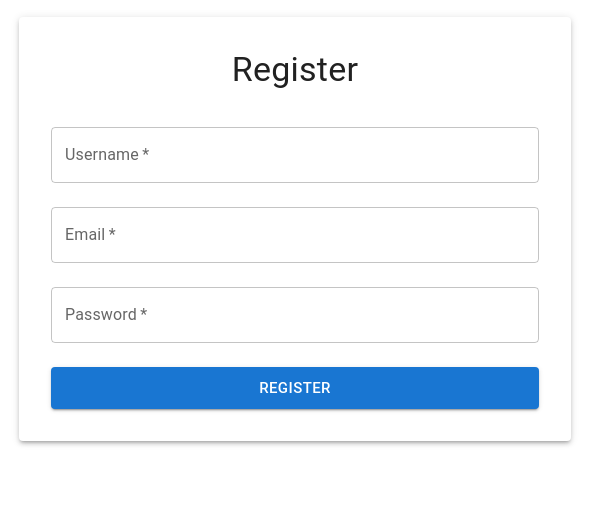
Test: Register Component › displays an error message on registration failure
# Simulate user input and form submission
Type "testuser" into the field labelled "Username *" at [295, 155], box [51,127,539,183]
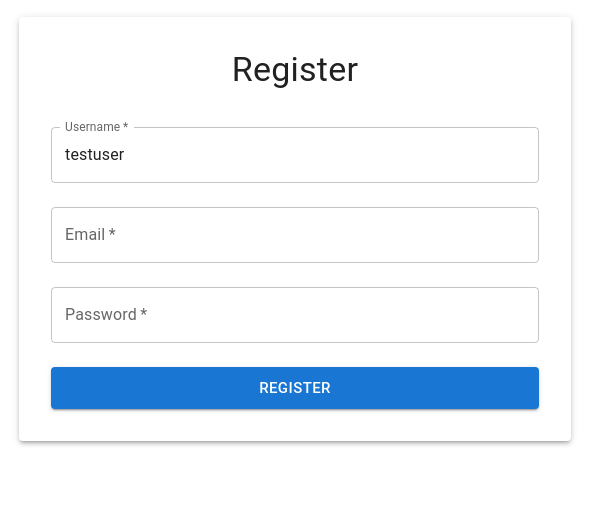
Type "test@example.com" into the field labelled "Email *" at [295, 235], box [51,207,539,263]
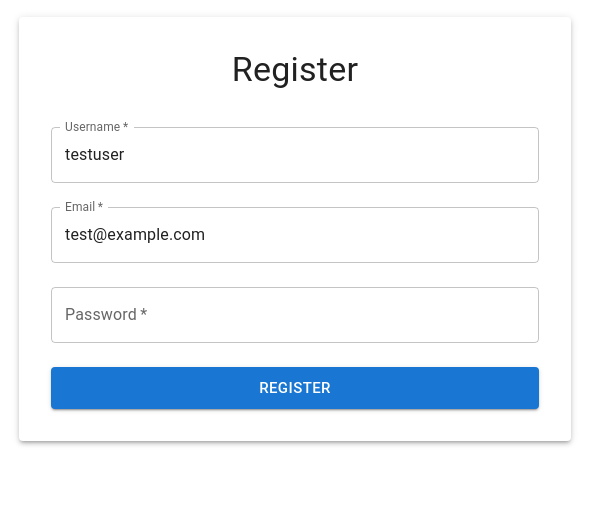
Type "testpassword" into the password field labelled "Password *" at [295, 315], box [51,287,539,343]
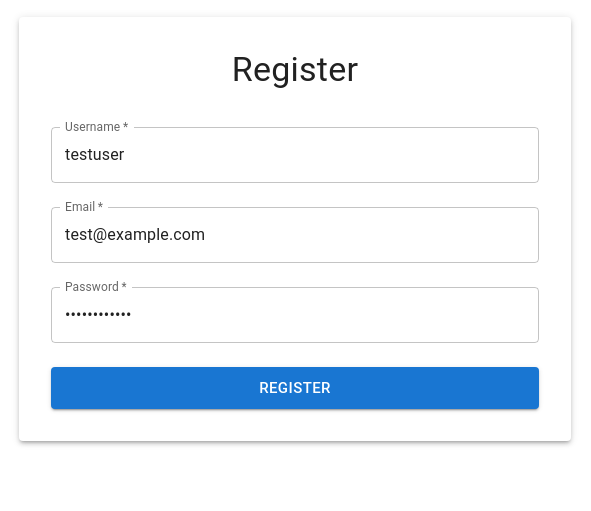
Click the button "Register" at [295, 388], box [51,367,539,409]
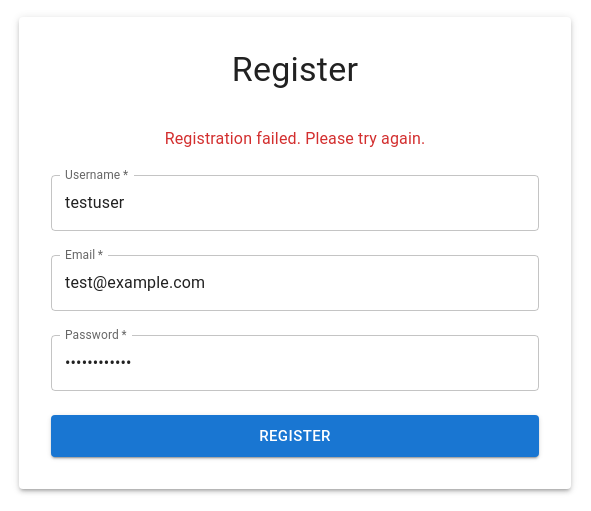
Result: the text "Registration failed. Please try again." is shown at [165,129,425,148]
